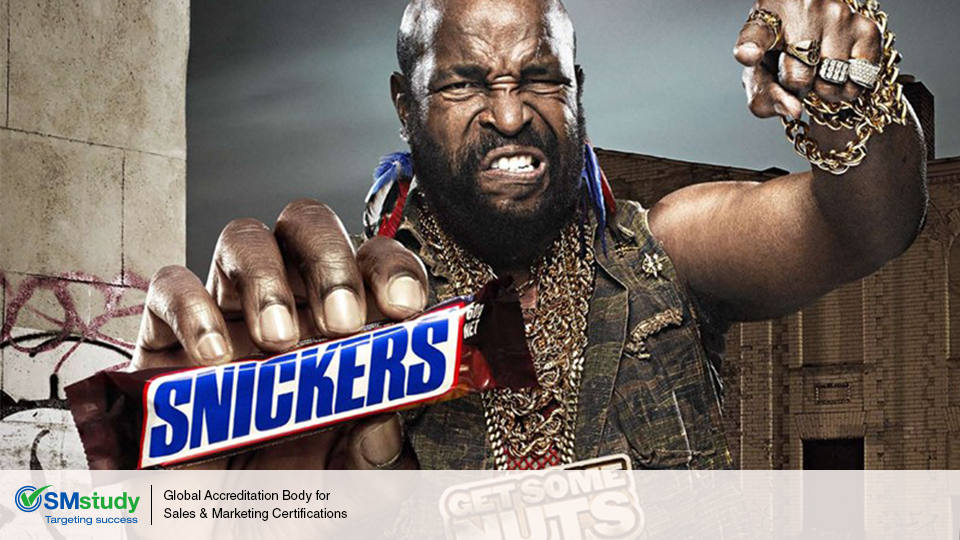snickers: (147, 315, 452, 460)
